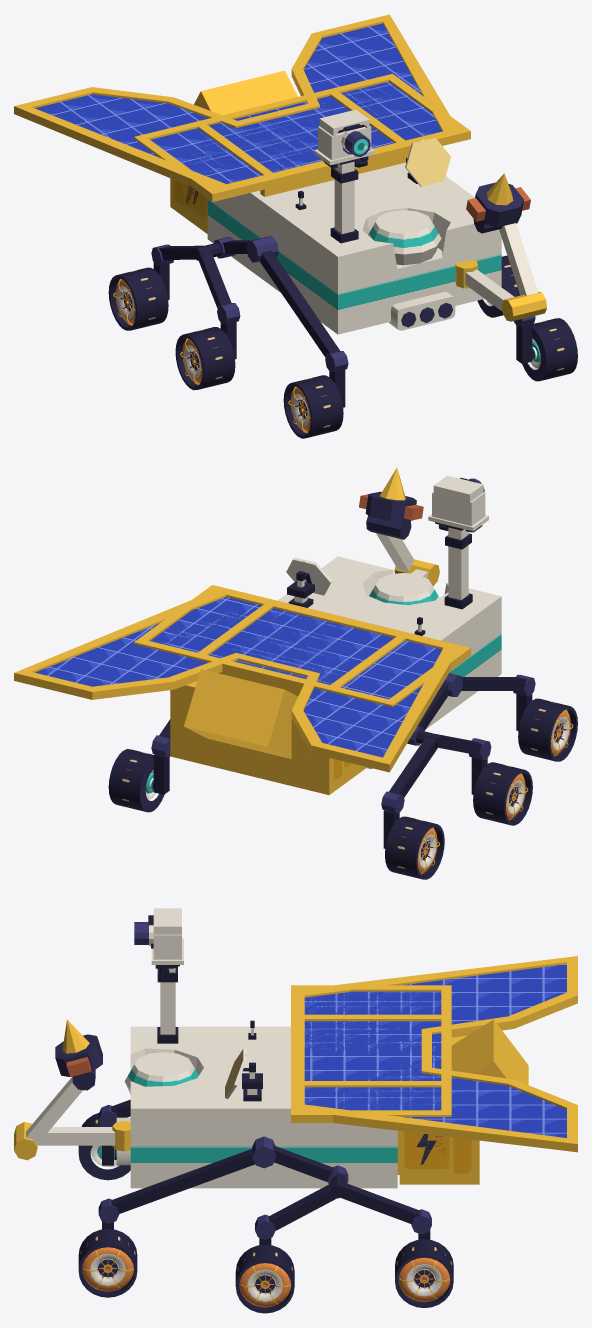
Rendered from nasa-rover.fbx.
3 renders of one model, top to bottom at view 1: azimuth 30°, elevation 25°; view 2: azimuth 150°, elevation 25°; view 3: azimuth 270°, elevation 25°, orthographic. The views are drawn at different scales.
Parts seen in each view (by area): view 1: Body, Solar 3, Solar 2, Solar 1, Battery 3, Drill Arm 2, RR.003, RF.003, RM.003, Camera Holder, Drill 2, LF.003 (+11 smaller); view 2: Solar 3, Body, Solar 2, Battery 3, Solar 1, Battery 2, RR.003, Camera Holder, RM.003, RF.003, Long Range Cam, Drill 2 (+14 smaller); view 3: Body, Solar 3, Solar 2, Solar 1, Battery 3, Battery 1, Battery 2, Drill Arm 2, Drill Arm 1, LR.003, LM.003, LF.003 (+9 smaller).
Part boxes in pixels (x1,y1,x2,y2): Body: (151, 137, 535, 407); Solar 3: (14, 14, 460, 199); Solar 2: (134, 74, 470, 201); Solar 1: (193, 88, 410, 192); Battery 3: (194, 70, 297, 115); Drill Arm 2: (499, 223, 546, 321); RR.003: (108, 267, 168, 330); RF.003: (283, 375, 343, 438); RM.003: (175, 327, 233, 390); Camera Holder: (323, 156, 368, 243); Drill 2: (475, 173, 523, 226); LF.003: (522, 318, 577, 381); Solar 3: (14, 588, 460, 772); Body: (151, 556, 535, 848); Solar 2: (134, 585, 470, 706); Battery 3: (184, 669, 297, 758); Solar 1: (192, 600, 406, 695); Battery 2: (170, 681, 367, 794); RR.003: (385, 816, 444, 879); Camera Holder: (435, 522, 482, 609); RM.003: (474, 762, 532, 825); RF.003: (518, 698, 577, 761); Long Range Cam: (433, 475, 484, 530); Drill 2: (367, 467, 416, 521); Body: (98, 1020, 431, 1245); Solar 3: (291, 956, 577, 1152); Solar 2: (291, 985, 451, 1122); Solar 1: (291, 1014, 451, 1087); Battery 3: (451, 1019, 528, 1084); Battery 1: (397, 1131, 453, 1176); Battery 2: (399, 1035, 479, 1184); Drill Arm 2: (14, 1076, 82, 1160); Drill Arm 1: (37, 1121, 130, 1151); LR.003: (395, 1239, 453, 1307); LM.003: (235, 1245, 294, 1313); LF.003: (78, 1229, 137, 1297).
Bounding box in the file's own units: 2758 × 1948 × 3493.
